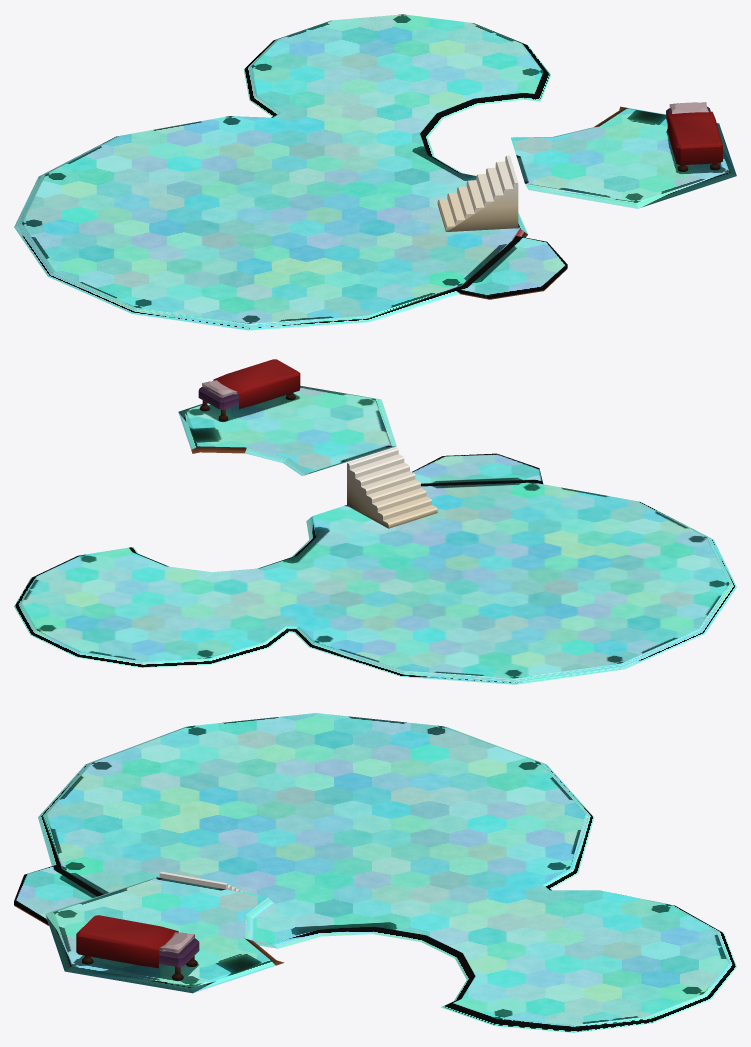
File: new_main_room_floor.gltf
3 views of the same model, one above another, from view 1: azimuth 30°, elevation 25°; view 2: azimuth 150°, elevation 25°; view 3: azimuth 270°, elevation 25° (orthographic). The views are drawn at different scales.
Visible parts, largest first — view 1: main_structure_floor; view 2: main_structure_floor; view 3: main_structure_floor.
Boxes of the visible parts, x1=… form: main_structure_floor: x1=14, y1=14, x2=736, y2=330; main_structure_floor: x1=14, y1=359, x2=736, y2=684; main_structure_floor: x1=14, y1=713, x2=736, y2=1032.
Size of what is drawn, in the model's own units: 14.61 by 1.76 by 13.57.
Materials: 2 (2 with a texture image).
